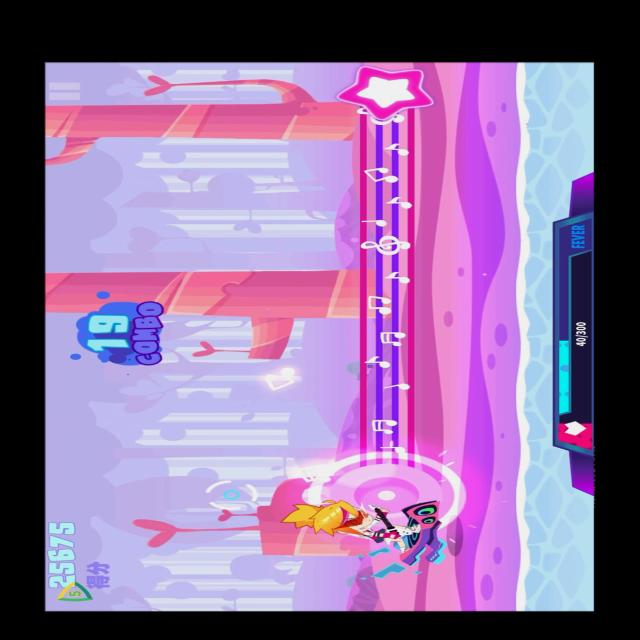hold: (330, 62, 438, 496)
